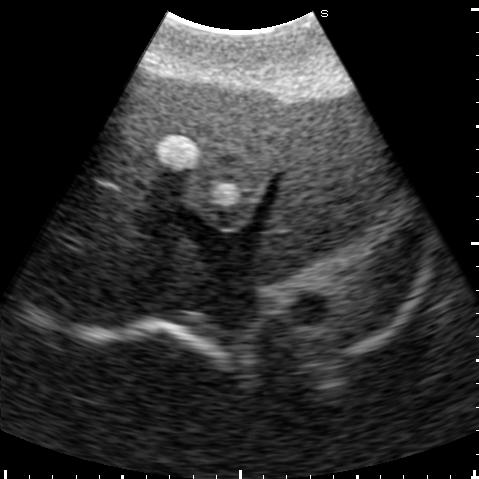S2: (253, 96, 391, 286)
S4: (104, 72, 289, 232)
S7: (34, 250, 143, 323)
S8: (61, 178, 201, 284)
Tumor: (156, 134, 198, 171), (213, 183, 239, 205)
